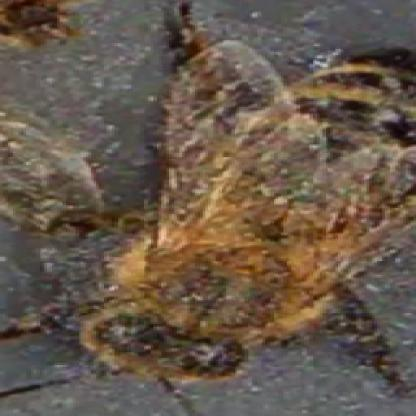bee: (63, 45, 416, 383), (0, 0, 75, 43)
